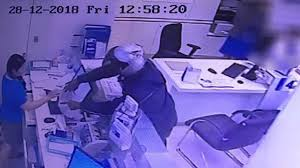Helmet: (99, 42, 149, 74)
